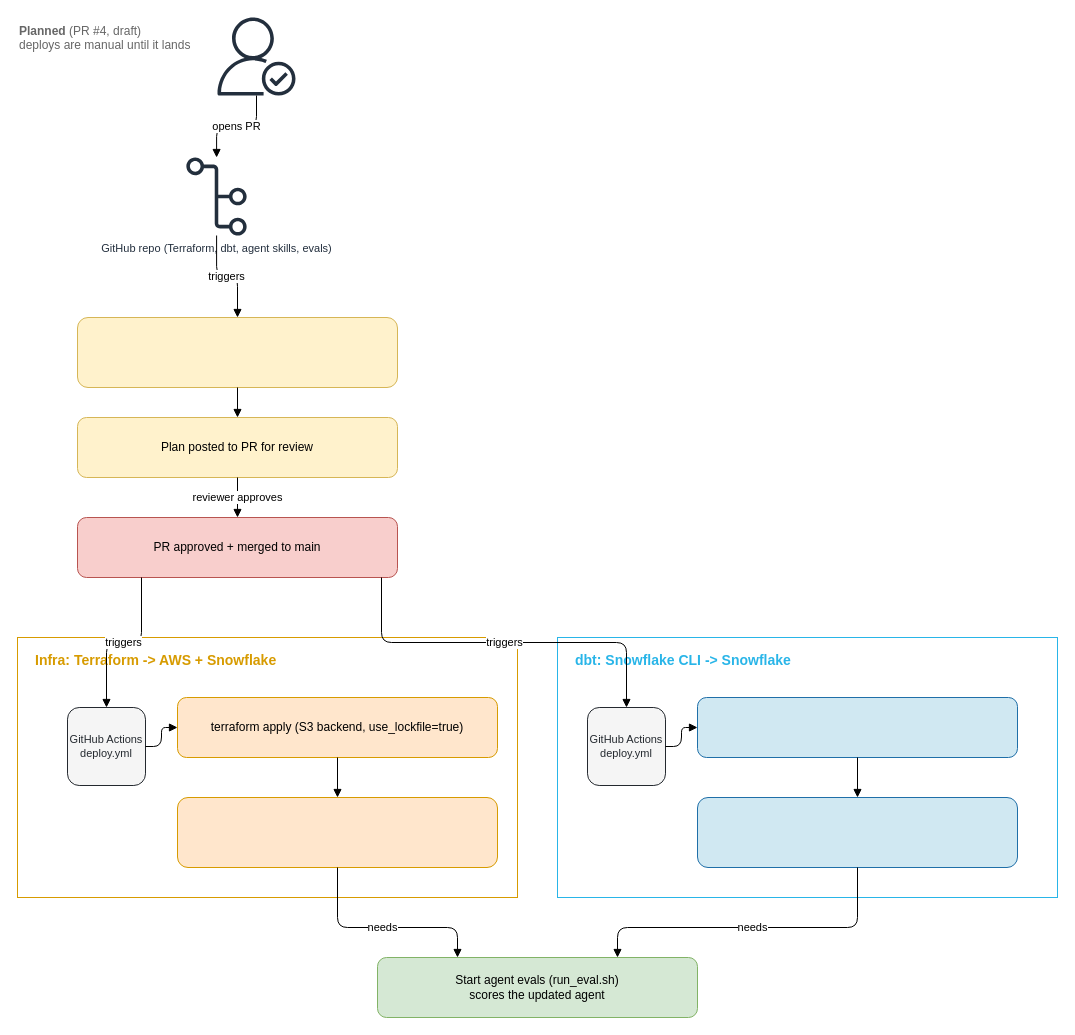
The diagram is 1075 pixels wide and 1035 high, and some of its shapes have lost their labels. Each missing label, with the centre of its shape:
AWS + Snowflake objects updated (S3, IAM, stage, task, Cortex Agent + skills): (x=337, y=832)
Developer: (x=256, y=56)
PR checks (GitHub Actions) terraform fmt / validate / plan · dbt parse: (x=237, y=352)
snow dbt execute ... build --target prod: (x=857, y=832)
Snowflake CLI: deploy DBT PROJECT object: (x=857, y=727)
